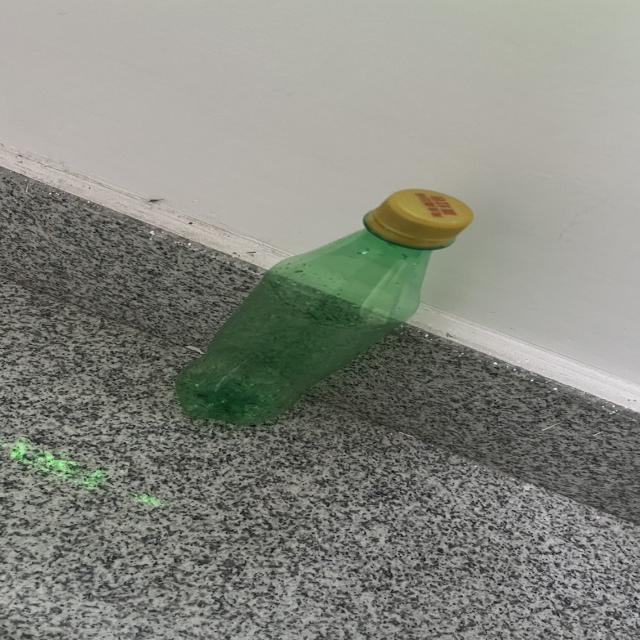empty: (177, 189, 472, 425)
